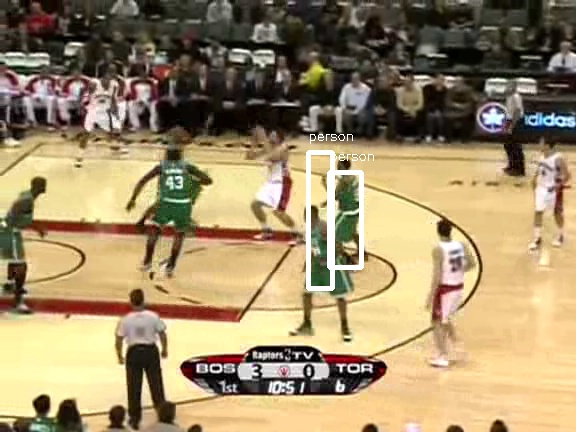person: (334, 169, 368, 250), (333, 169, 367, 250), (335, 169, 369, 250), (334, 168, 368, 249), (334, 170, 368, 251)
target_negative: (387, 124, 560, 323), (346, 134, 516, 296), (415, 246, 557, 359), (532, 40, 568, 395), (361, 131, 397, 383), (415, 407, 532, 423)
